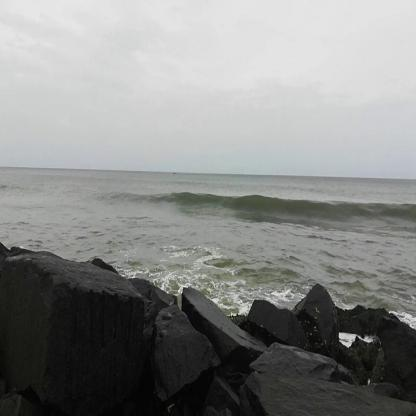other: (163, 239, 281, 305)
